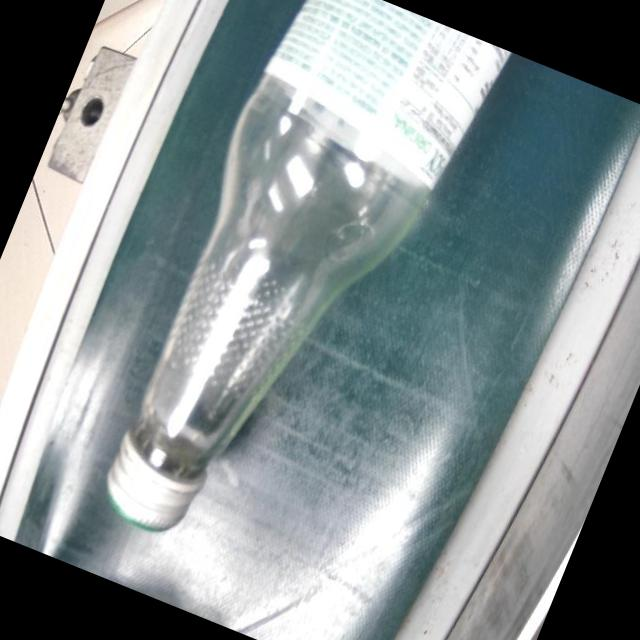BotolPlastik: (79, 0, 516, 594)
